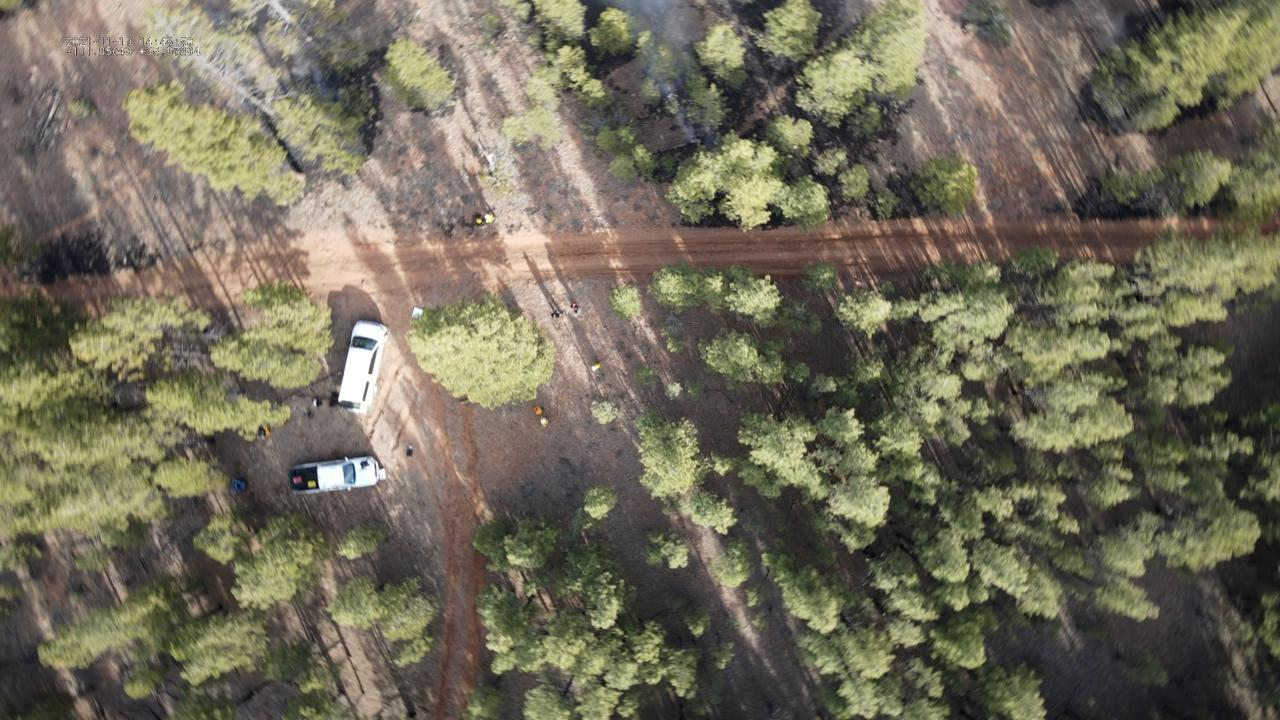smoke: (602, 0, 698, 147)
